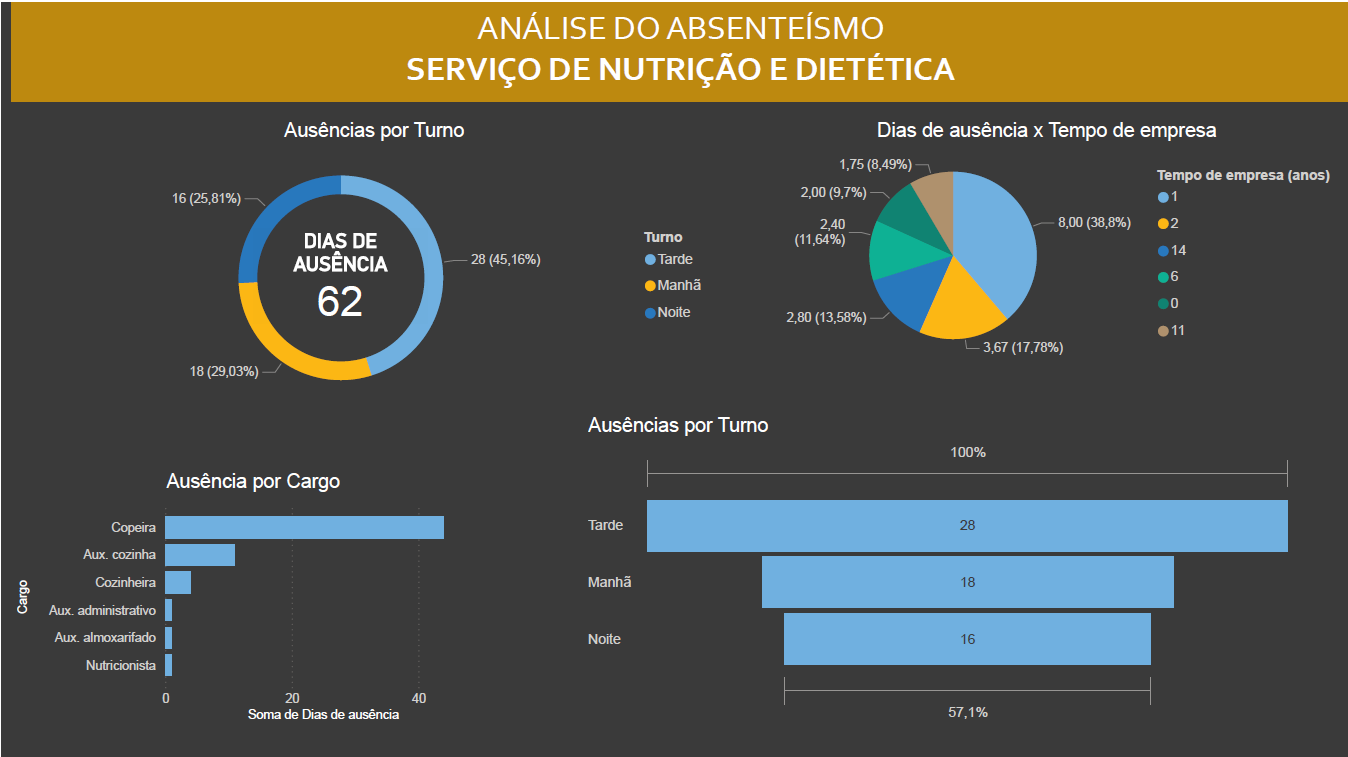

The page's visual inventory and layout, read from the dashboard file:
{"tool":"powerbi","page":{"name":"Absenteísmo","canvas":[1280,720],"ordinal":0},"visuals":[{"type":"textbox","box":[9.7,0,1270.4,94.1],"z":0},{"type":"clusteredBarChart","title":"Ausência por Cargo","fields":{"Category":["Absenteísmo.Cargo"],"Y":["Sum(Absenteísmo.Dias de ausência)"]},"box":[9.5,444,458.3,244],"z":3000},{"type":"donutChart","title":"Ausências por Turno ","fields":{"Category":["Absenteísmo.Turno "],"Y":["Sum(Absenteísmo.Dias de ausência)"]},"box":[30.2,111.1,647.7,279.9],"z":4000},{"type":"funnel","title":"Ausências por Turno ","fields":{"Category":["Absenteísmo.Turno "],"Y":["Sum(Absenteísmo.Dias de ausência)"]},"box":[551.6,391.1,679.2,297.8],"z":5000},{"type":"card","title":"DIAS DE AUSÊNCIA","fields":{"Values":["Sum(Absenteísmo.Dias de ausência)"]},"box":[238.8,215.4,174.3,94.7],"z":5001},{"type":"pieChart","title":"Dias de ausência x Tempo de empresa","fields":{"Category":["Absenteísmo.Tempo de empresa (anos)"],"Y":["Avg(Absenteísmo.Dias de ausência)"]},"box":[705.3,111.1,575,237.4],"z":5002}]}

Visuals, with their boxes in screenshot pixels (x1, y1, x2, y2), scaled from the page's 1280x720 canvas onto the 1348x757 screenshot:
textbox: [10, 0, 1347, 99]
"Ausência por Cargo" clusteredBarChart: [10, 467, 493, 723]
"Ausências por Turno " donutChart: [32, 117, 714, 411]
"Ausências por Turno " funnel: [581, 411, 1296, 724]
"DIAS DE AUSÊNCIA" card: [251, 226, 435, 326]
"Dias de ausência x Tempo de empresa" pieChart: [743, 117, 1347, 366]
